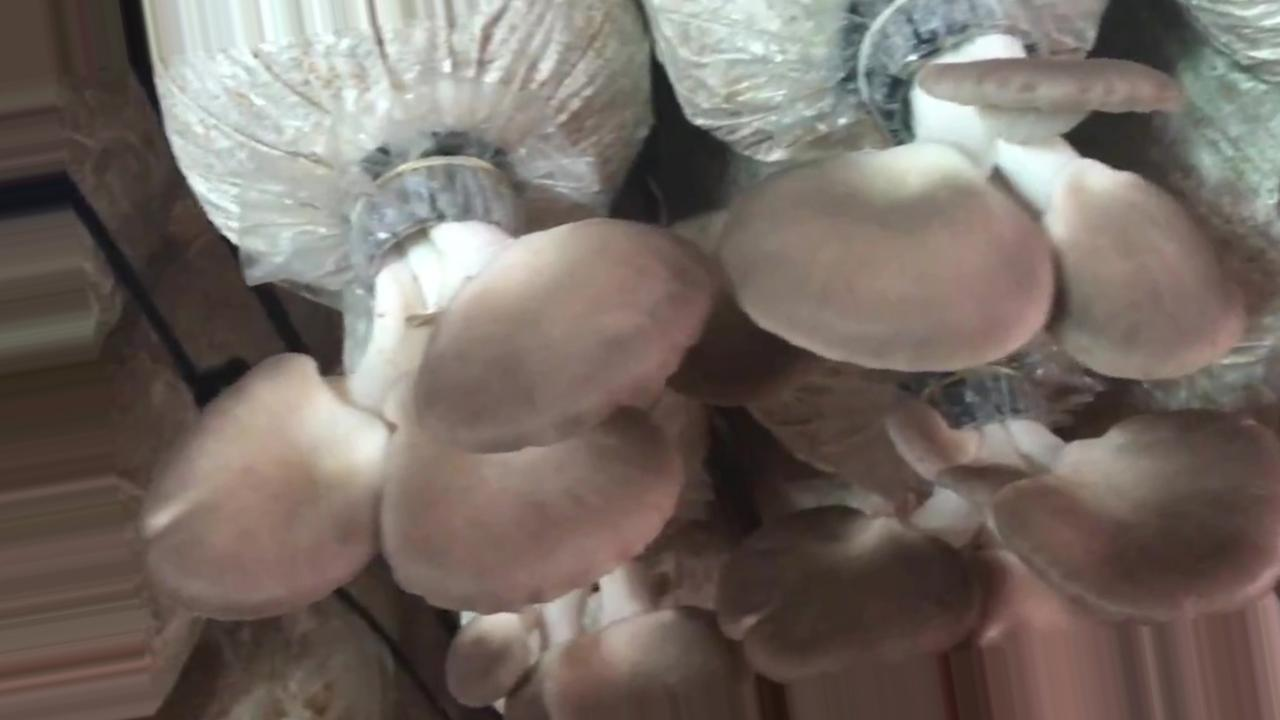nam: (150, 150, 716, 616), (728, 1, 1242, 381), (720, 373, 1278, 720), (721, 380, 1280, 682), (448, 563, 753, 720)
